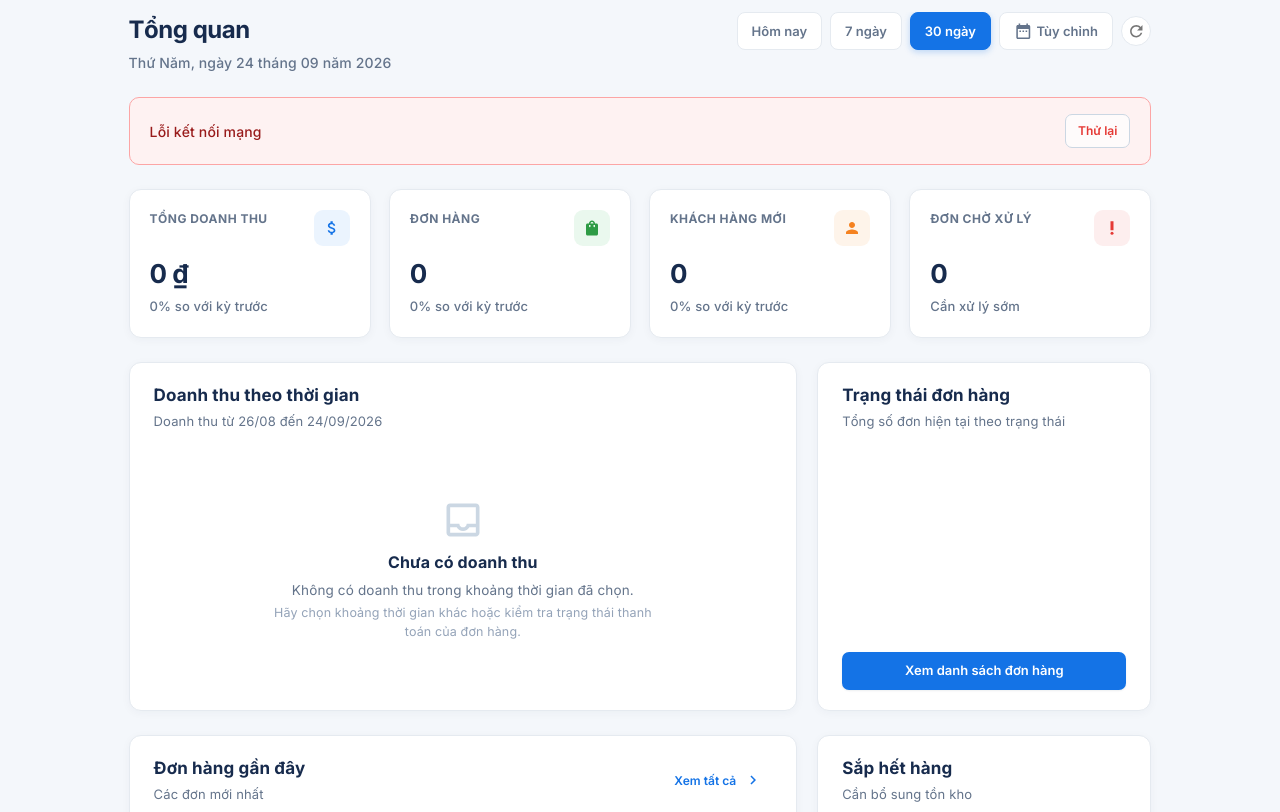
Dashboard Component › renders error state with retry button on API failure
Expected: the text "Lỗi kết nối mạng" is shown, [150,120,262,142]
Note: Click retry
What coordinates should you click on to do the following:
click the button "Thử lại"
I would click on:
 (1098, 131)
Its box is [1065,114,1130,148].
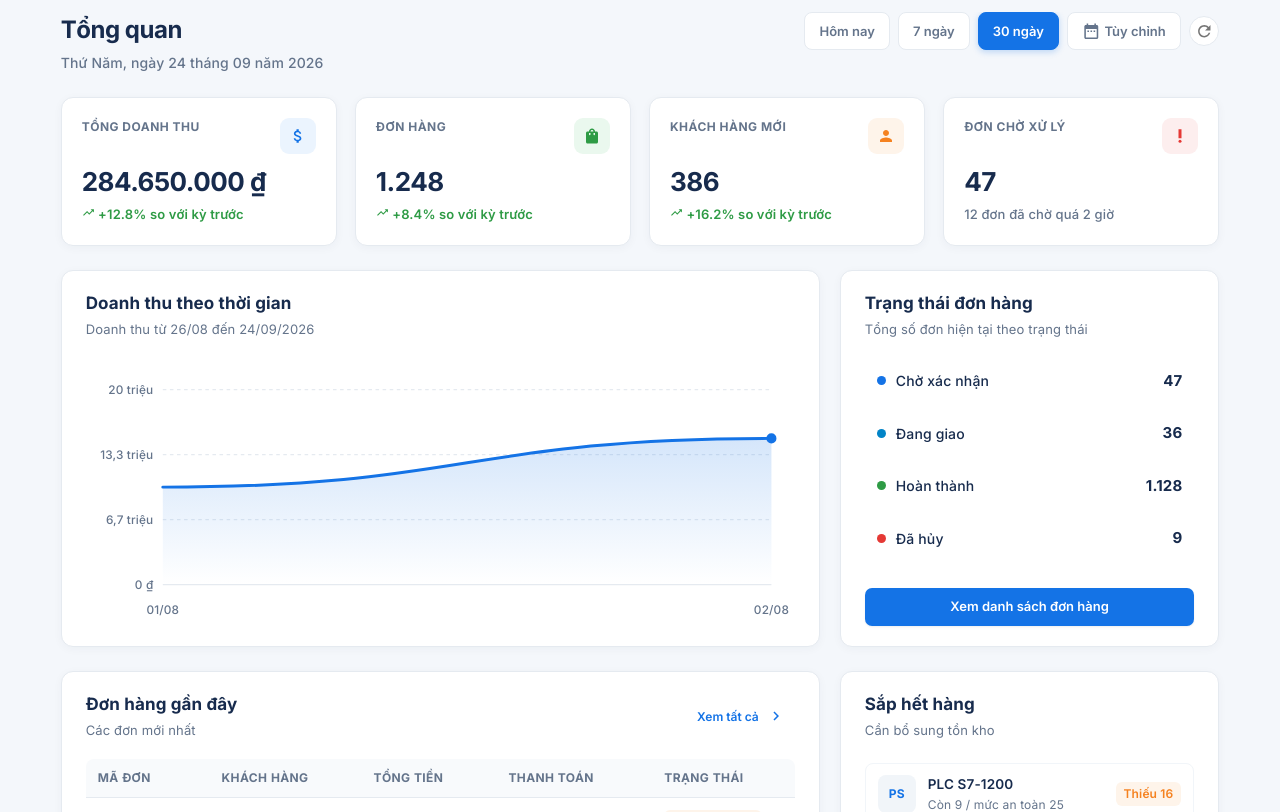
Result: the text "284.650.000 ₫" is shown at [82,166,266,197]
